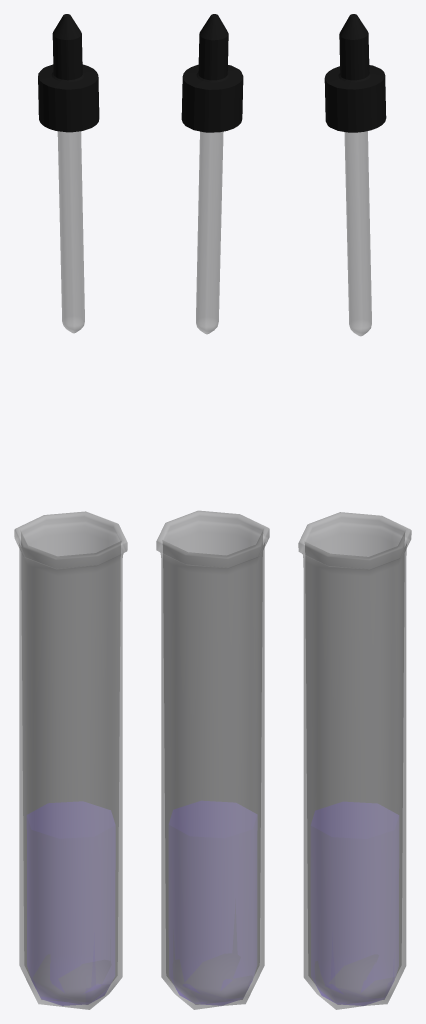
File: acid_base.fbx
3 views of the same model, side by side, from view 1: azimuth 30°, elevation 25°; view 2: azimuth 150°, elevation 25°; view 3: azimuth 330°, elevation 25° (orthographic).
Parts seen in each view (by area): view 1: test_tube6, sloution, dropper2; view 2: test_tube6, sloution, dropper2; view 3: test_tube6, sloution, dropper2.
Part boxes in pixels (x1,y1,x2,y2): test_tube6: [14, 511, 127, 1009]; sloution: [27, 802, 114, 1005]; dropper2: [38, 14, 99, 333]; test_tube6: [156, 510, 269, 1009]; sloution: [169, 801, 256, 1005]; dropper2: [181, 14, 243, 334]; test_tube6: [298, 512, 411, 1009]; sloution: [311, 802, 398, 1005]; dropper2: [324, 14, 386, 336].
Size of the model in its own units: 5.73 by 56.46 by 5.73.
4 materials, 1 textured.
